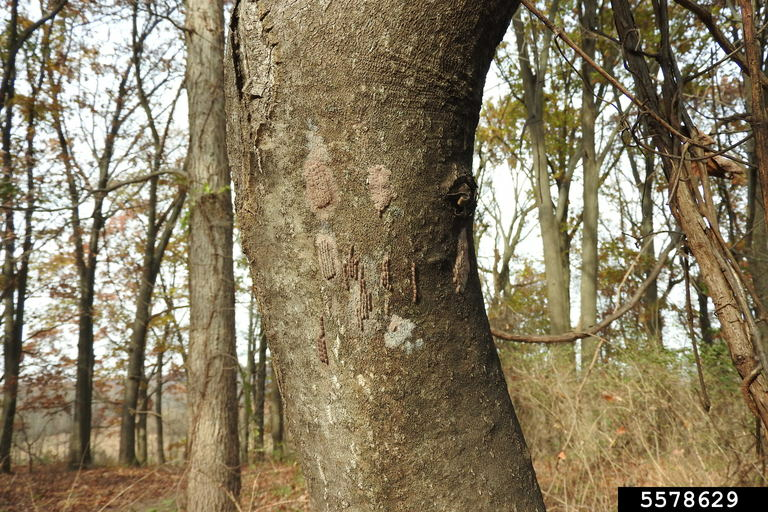egg masses: (349, 279, 378, 324), (303, 165, 335, 204), (401, 258, 426, 301), (310, 315, 332, 363), (374, 251, 396, 294), (314, 239, 338, 278), (342, 247, 363, 285)
